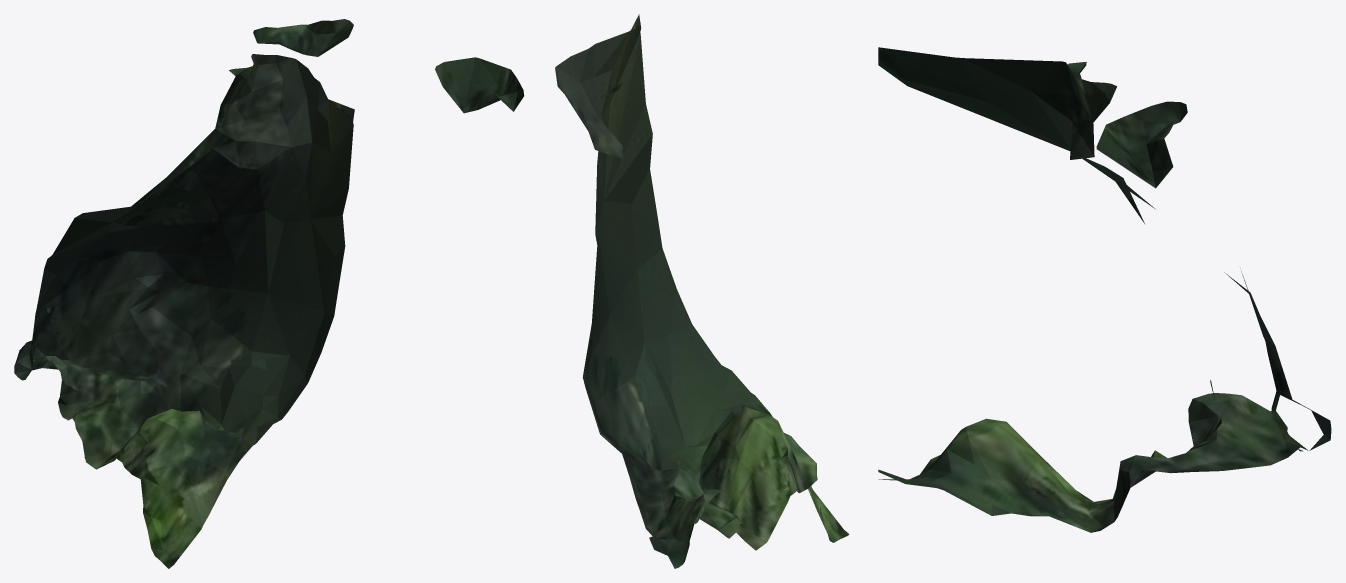
3 views of the same model, side by side, from view 1: azimuth 30°, elevation 25°; view 2: azimuth 150°, elevation 25°; view 3: azimuth 270°, elevation 25° (orthographic). The views are drawn at different scales.
Bounding box in the file's own units: 12.68 × 16.73 × 11.45.
1 material, 1 textured.
